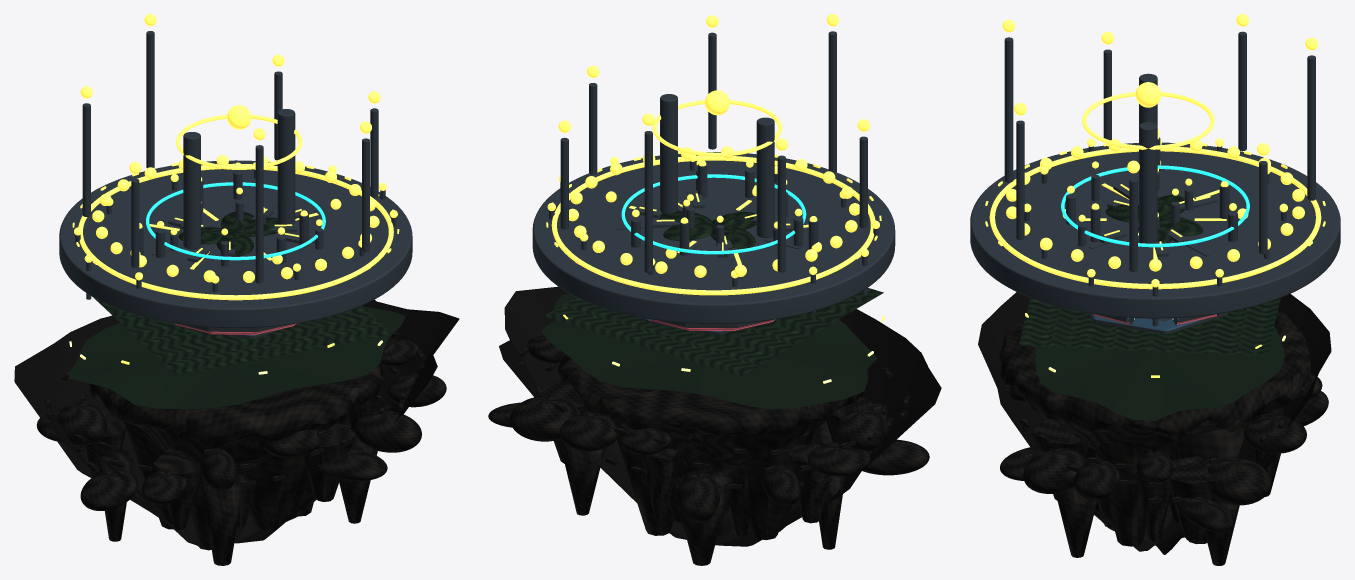
3 views of the same model, side by side, from view 1: azimuth 30°, elevation 25°; view 2: azimuth 150°, elevation 25°; view 3: azimuth 270°, elevation 25° (orthographic). The views are drawn at different scales.
Parts seen in each view (by area): view 1: AI_PM_launch_round_deck, AI_PM_launch_terrain_cap, AI_PM_launch_island_Floating_Island_01_Art, AI_PM_launch_organic_rock_shell, AI_PM_launch_terrain_surface_Terrain_Art, AI_PM_launch_outer_light_ring, AI_PM_launch_underside_shard_03, AI_PM_launch_cliff_tooth_05, AI_PM_launch_cliff_boulder_02, AI_PM_launch_gate_column_b, AI_PM_launch_gate_column_a, AI_PM_launch_cliff_tooth_03 (+24 smaller); view 2: AI_PM_launch_round_deck, AI_PM_launch_terrain_cap, AI_PM_launch_organic_rock_shell, AI_PM_launch_island_Floating_Island_01_Art, AI_PM_launch_terrain_surface_Terrain_Art, AI_PM_launch_outer_light_ring, AI_PM_launch_cliff_tooth_11, AI_PM_launch_underside_shard_07, AI_PM_launch_cliff_boulder_14, AI_PM_launch_gate_column_a, AI_PM_launch_gate_column_b, AI_PM_launch_cliff_tooth_14 (+27 smaller); view 3: AI_PM_launch_round_deck, AI_PM_launch_terrain_cap, AI_PM_launch_island_Floating_Island_01_Art, AI_PM_launch_terrain_surface_Terrain_Art, AI_PM_launch_organic_rock_shell, AI_PM_launch_outer_light_ring, AI_PM_launch_underside_shard_01, AI_PM_launch_cliff_boulder_14, AI_PM_launch_gate_column_b, AI_PM_launch_cliff_boulder_02, AI_PM_launch_cliff_tooth_15, AI_PM_launch_cliff_boulder_13 (+24 smaller).
Part boxes in pixels (left/top/right/bottom): AI_PM_launch_round_deck: left=59, top=160, right=412, bottom=328; AI_PM_launch_terrain_cap: left=68, top=306, right=405, bottom=409; AI_PM_launch_island_Floating_Island_01_Art: left=89, top=322, right=383, bottom=472; AI_PM_launch_organic_rock_shell: left=14, top=299, right=459, bottom=545; AI_PM_launch_terrain_surface_Terrain_Art: left=93, top=297, right=392, bottom=375; AI_PM_launch_outer_light_ring: left=78, top=163, right=393, bottom=300; AI_PM_launch_underside_shard_03: left=246, top=456, right=305, bottom=530; AI_PM_launch_cliff_tooth_05: left=200, top=472, right=244, bottom=565; AI_PM_launch_cliff_boulder_02: left=354, top=411, right=421, bottom=452; AI_PM_launch_gate_column_b: left=277, top=109, right=295, bottom=224; AI_PM_launch_gate_column_a: left=183, top=132, right=200, bottom=249; AI_PM_launch_cliff_tooth_03: left=304, top=423, right=355, bottom=501; AI_PM_launch_round_deck: left=532, top=152, right=895, bottom=323; AI_PM_launch_terrain_cap: left=541, top=294, right=877, bottom=409; AI_PM_launch_organic_rock_shell: left=499, top=286, right=941, bottom=546; AI_PM_launch_island_Floating_Island_01_Art: left=557, top=328, right=871, bottom=467; AI_PM_launch_terrain_surface_Terrain_Art: left=544, top=288, right=883, bottom=376; AI_PM_launch_outer_light_ring: left=551, top=155, right=875, bottom=295; AI_PM_launch_cliff_tooth_11: left=671, top=465, right=731, bottom=565; AI_PM_launch_underside_shard_07: left=745, top=427, right=816, bottom=540; AI_PM_launch_cliff_boulder_14: left=510, top=396, right=580, bottom=441; AI_PM_launch_gate_column_a: left=756, top=117, right=774, bottom=237; AI_PM_launch_gate_column_b: left=660, top=94, right=677, bottom=213; AI_PM_launch_cliff_tooth_14: left=559, top=439, right=605, bottom=515; AI_PM_launch_round_deck: left=970, top=142, right=1340, bottom=318; AI_PM_launch_terrain_cap: left=1035, top=326, right=1284, bottom=420; AI_PM_launch_island_Floating_Island_01_Art: left=999, top=310, right=1310, bottom=451; AI_PM_launch_terrain_surface_Terrain_Art: left=1019, top=298, right=1280, bottom=355; AI_PM_launch_organic_rock_shell: left=978, top=292, right=1331, bottom=554; AI_PM_launch_outer_light_ring: left=989, top=146, right=1321, bottom=289; AI_PM_launch_underside_shard_01: left=1095, top=442, right=1146, bottom=546; AI_PM_launch_cliff_boulder_14: left=1207, top=457, right=1271, bottom=505; AI_PM_launch_gate_column_b: left=1139, top=122, right=1157, bottom=243; AI_PM_launch_cliff_boulder_02: left=1023, top=448, right=1087, bottom=493; AI_PM_launch_cliff_tooth_15: left=1168, top=456, right=1216, bottom=541; AI_PM_launch_cliff_boulder_13: left=1244, top=415, right=1306, bottom=453.
Bounding box in the file's own units: 1.39 × 1.55 × 1.04.
15 materials, 4 textured.
